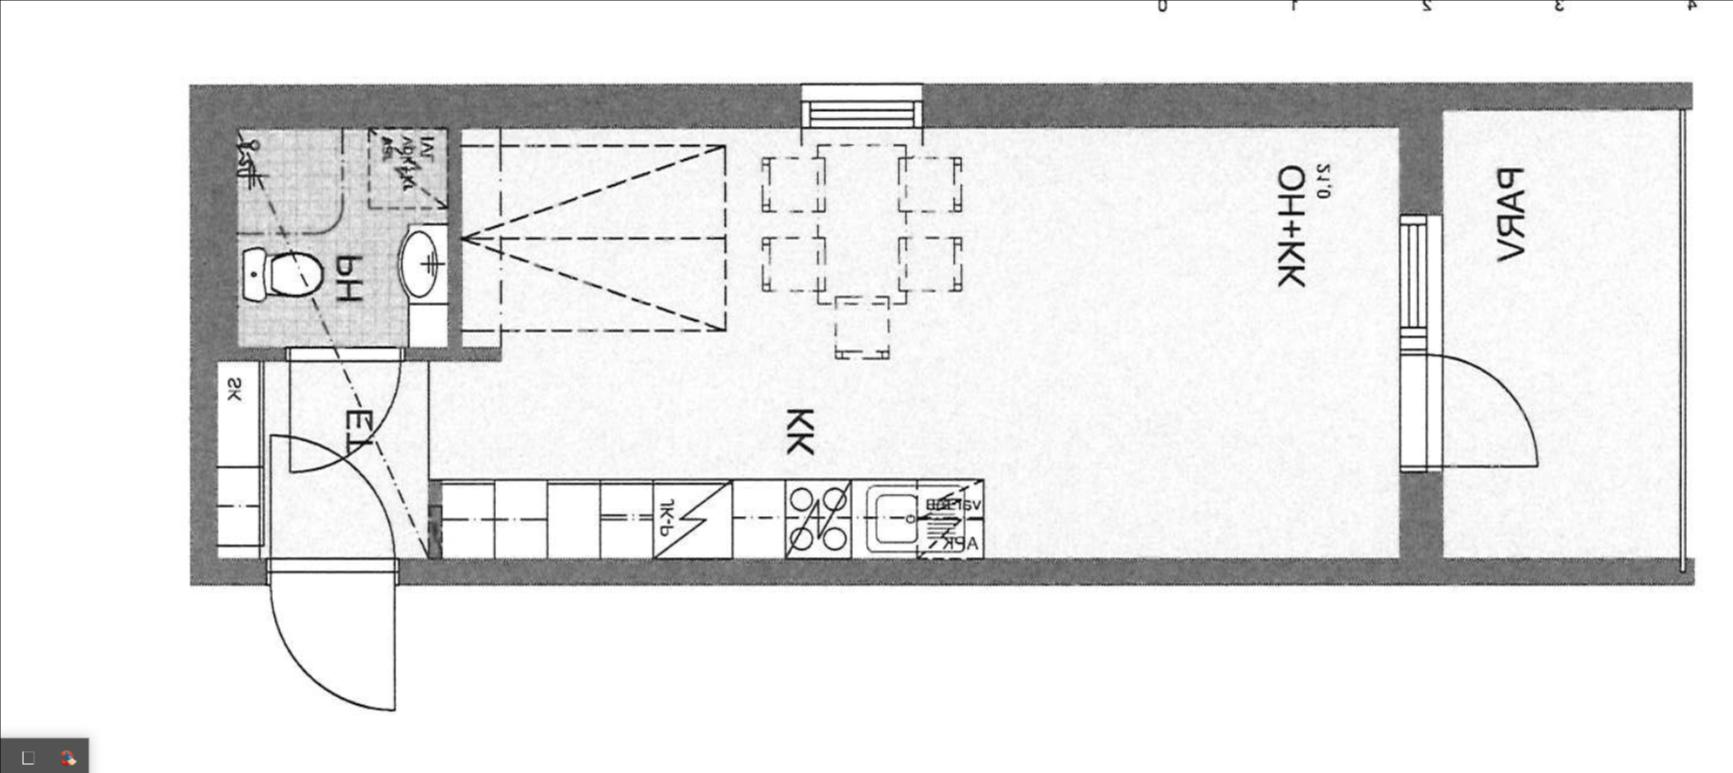bathroom: (238, 127, 449, 345)
door: (259, 557, 400, 717), (262, 433, 399, 579), (1393, 348, 1546, 477), (282, 344, 407, 474)
perimeter: (190, 82, 1442, 585)
window: (789, 75, 933, 139), (1395, 205, 1448, 356)
